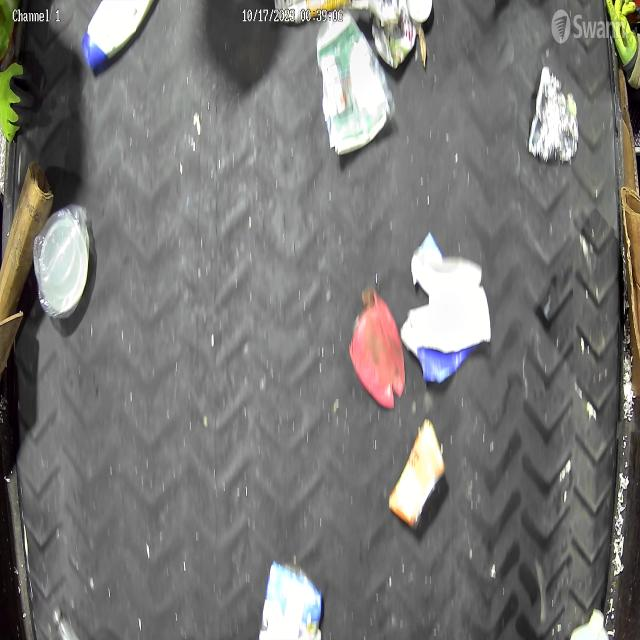can: (389, 418, 446, 529), (530, 66, 578, 162), (372, 3, 420, 70)
